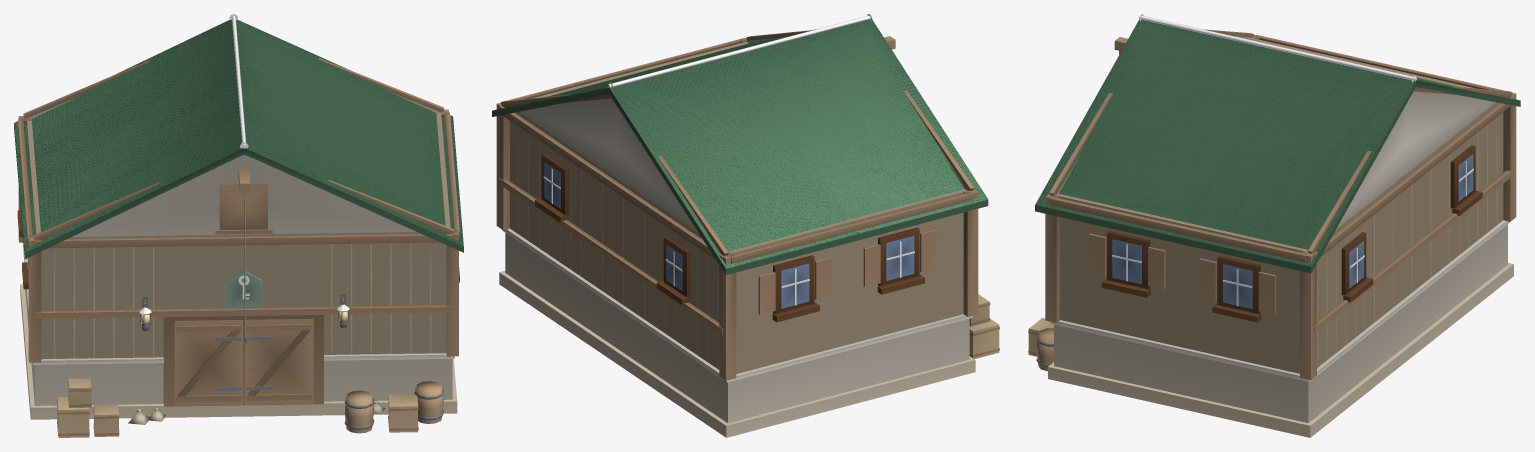
File: warehouse_hq.glb
The picture shows the model from 3 angles, left to right: view 1: azimuth 30°, elevation 25°; view 2: azimuth 150°, elevation 25°; view 3: azimuth 270°, elevation 25°; orthographic projection.
Parts seen in each view (by area): view 1: Ware_props, Ware_roof, Ware_stone, Ware_gold; view 2: Ware_props, Ware_roof, Ware_stone, Ware_gold; view 3: Ware_roof, Ware_props, Ware_stone, Ware_gold.
Part boxes in pixels (bbox=[...]): Ware_props: bbox=[18, 58, 459, 437]; Ware_roof: bbox=[14, 19, 463, 258]; Ware_stone: bbox=[17, 91, 459, 419]; Ware_gold: bbox=[27, 14, 349, 315]; Ware_props: bbox=[496, 30, 999, 380]; Ware_roof: bbox=[492, 19, 988, 275]; Ware_stone: bbox=[499, 38, 975, 437]; Ware_gold: bbox=[543, 14, 914, 305]; Ware_roof: bbox=[1035, 19, 1520, 273]; Ware_props: bbox=[1028, 29, 1516, 379]; Ware_stone: bbox=[1048, 36, 1513, 437]; Ware_gold: bbox=[1112, 14, 1473, 306].
Size of the model in its own units: 12.1 by 6.97 by 11.02.
